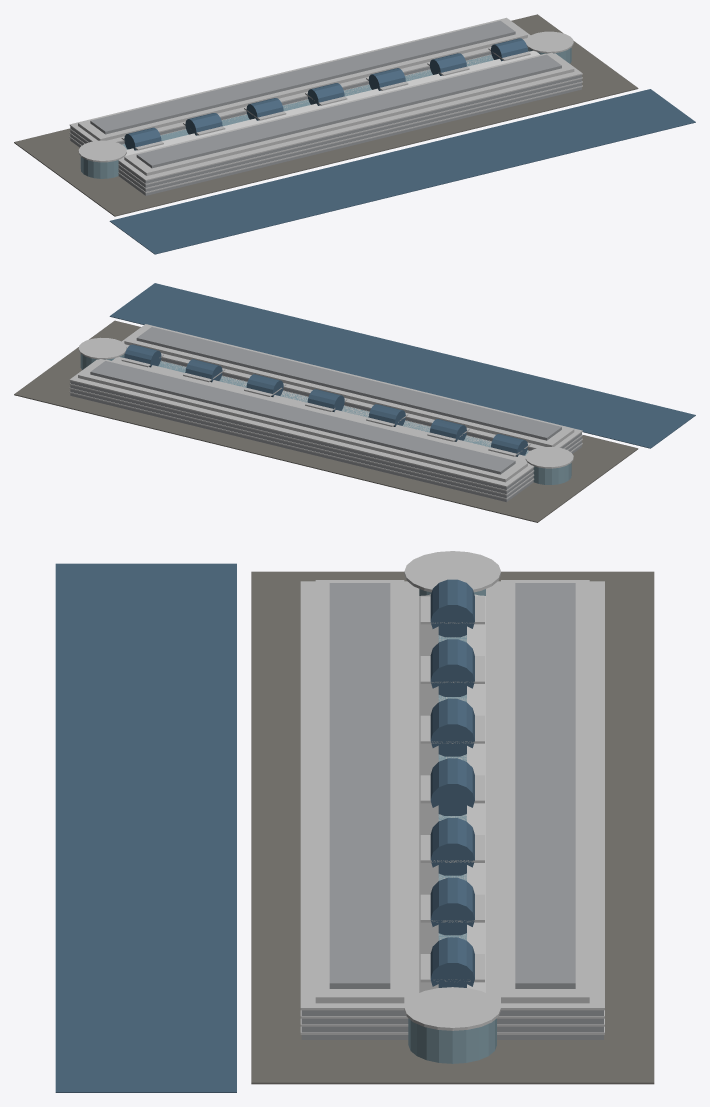
Rendered from excel_centre.glb.
3 renders of one model, top to bottom at view 1: azimuth 30°, elevation 25°; view 2: azimuth 150°, elevation 25°; view 3: azimuth 270°, elevation 25°, orthographic. The views are drawn at different scales.
Parts seen in each view (by area): view 1: excel_centre; view 2: excel_centre; view 3: excel_centre.
Part boxes in pixels (x1=…): excel_centre: x1=14, y1=14, x2=695, y2=254; excel_centre: x1=14, y1=283, x2=695, y2=522; excel_centre: x1=55, y1=551, x2=654, y2=1092.
Size of the model in its own units: 620 by 31.62 by 297.
